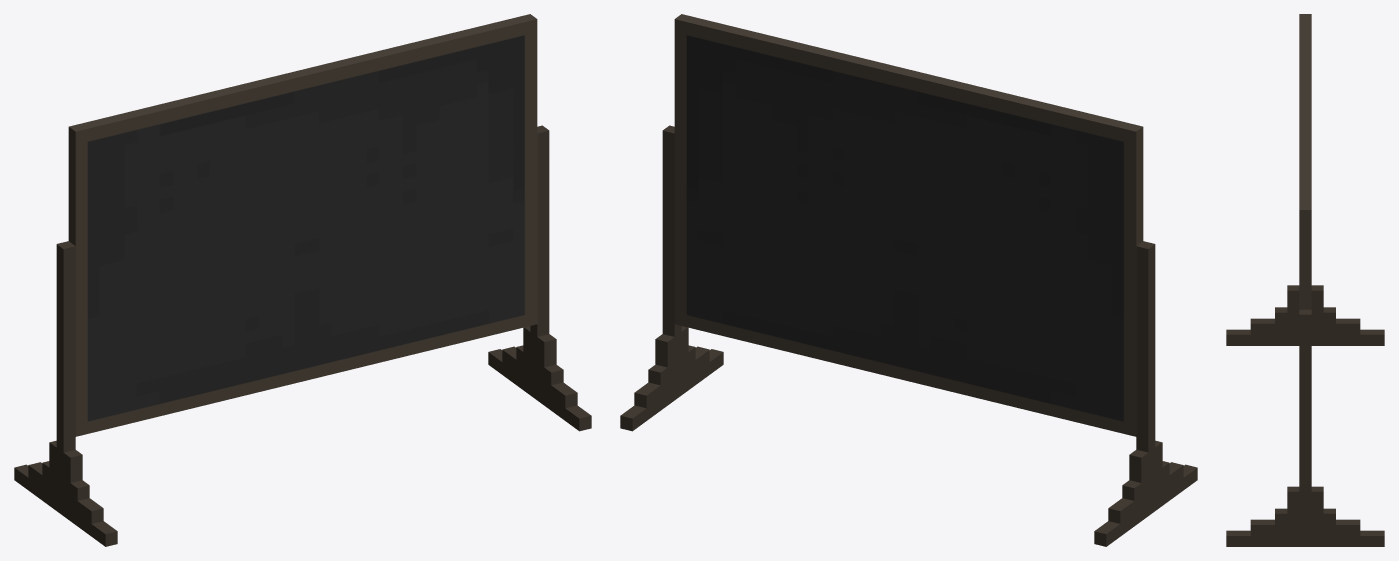
File: Blackboard.fbx
3 views of the same model, side by side, from view 1: azimuth 30°, elevation 25°; view 2: azimuth 150°, elevation 25°; view 3: azimuth 270°, elevation 25° (orthographic). The views are drawn at different scales.
Visible parts, largest first — view 1: MapBoard; view 2: MapBoard; view 3: MapBoard.
Boxes of the visible parts, x1,y1,x2,y2 form: MapBoard: (14,14,591,546); MapBoard: (620,14,1197,546); MapBoard: (1226,14,1384,546).
Size of the model in its own units: 400 by 300 by 130.
1 material, 1 textured.
